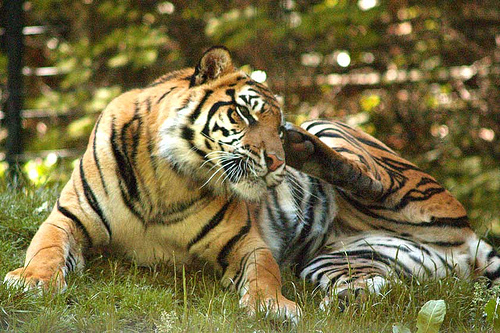Tigre: (75, 70, 462, 302)
